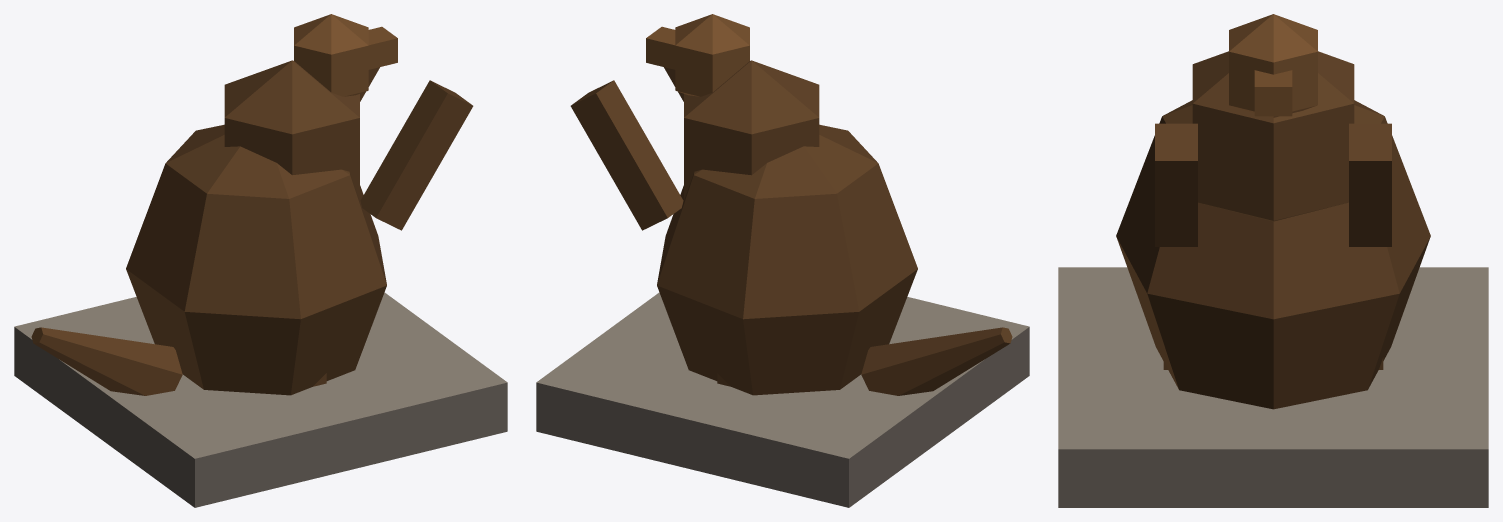
Rendered from milodon.obj.
The picture shows the model from 3 angles, left to right: view 1: azimuth 30°, elevation 25°; view 2: azimuth 150°, elevation 25°; view 3: azimuth 270°, elevation 25°; orthographic projection. The views are drawn at different scales.
Parts seen in each view (by area): view 1: milodon; view 2: milodon; view 3: milodon.
Boxes of the visible parts, x1,y1,x2,y2 form: milodon: [14, 14, 507, 507]; milodon: [536, 14, 1029, 507]; milodon: [1058, 14, 1488, 507].
Size of the model in its own units: 4.99 by 4.65 by 4.
